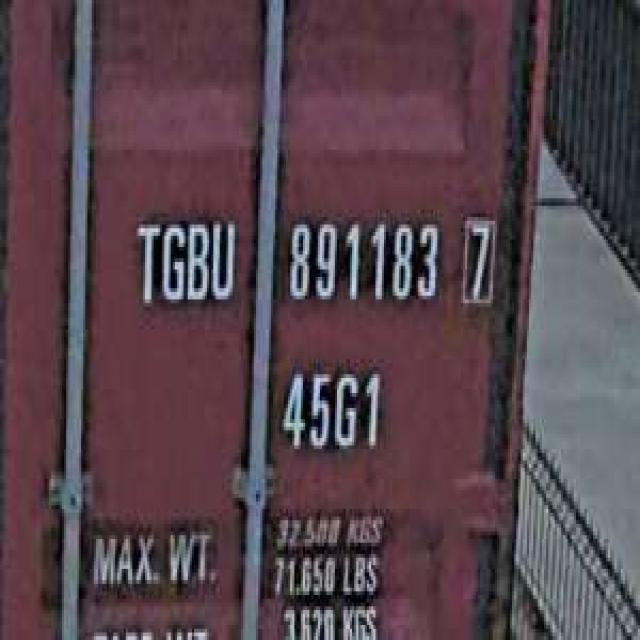dv: (457, 210, 499, 310)
owner: (128, 206, 239, 314)
serial: (282, 202, 442, 318)
size: (275, 356, 386, 464)
